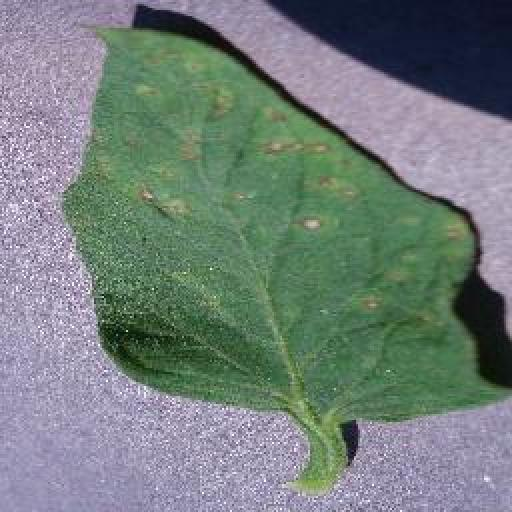disease_tomato: (67, 17, 509, 423)
